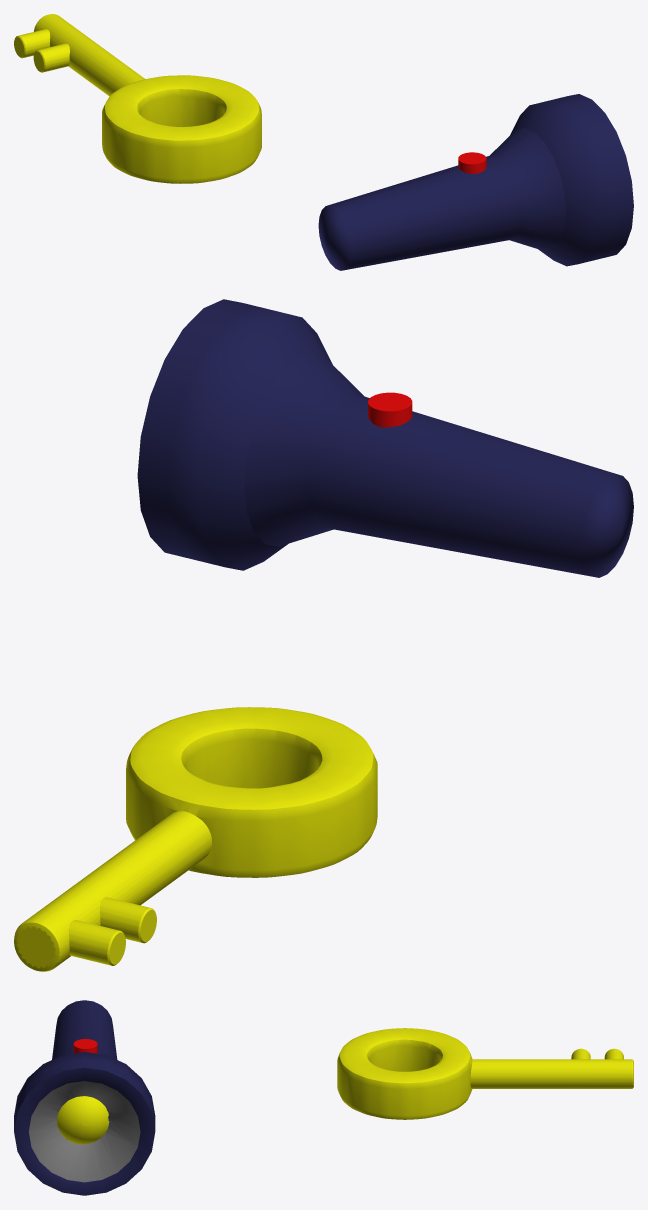
File: linterna y llave.fbx
3 renders of one model, top to bottom at view 1: azimuth 30°, elevation 25°; view 2: azimuth 150°, elevation 25°; view 3: azimuth 270°, elevation 25°, orthographic. The views are drawn at different scales.
Parts seen in each view (by area): view 1: pCylinder27, pCylinder23; view 2: pCylinder27, pCylinder23; view 3: pCylinder27, pCylinder23.
Part boxes in pixels (x1,y1,x2,y2): pCylinder27: (318,94,633,270); pCylinder23: (14,14,261,183); pCylinder27: (137,299,633,577); pCylinder23: (14,707,377,971); pCylinder27: (14,1000,155,1195); pCylinder23: (337,1028,633,1119).
Size of the model in its own units: 2.24 by 1.12 by 4.91.
